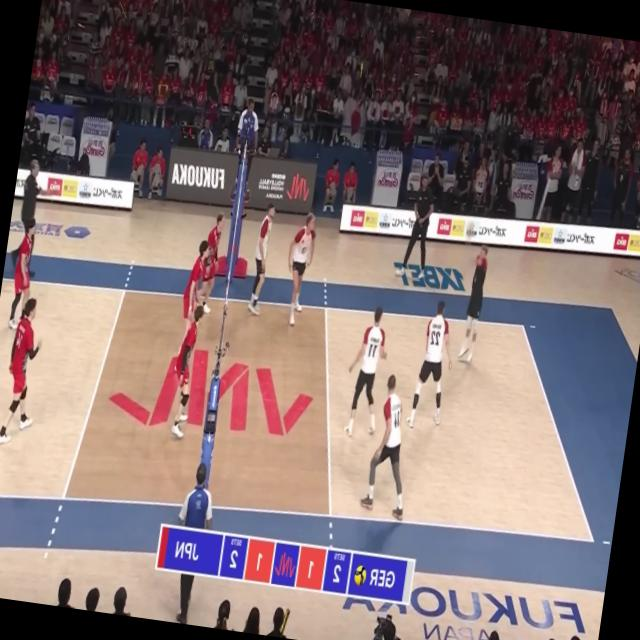referee: (163, 460, 219, 626)
team_one: (359, 372, 422, 520), (338, 304, 396, 442), (406, 300, 459, 430), (279, 210, 320, 329), (457, 246, 491, 368), (245, 202, 278, 318)
team_two: (0, 295, 48, 450), (165, 304, 208, 444), (173, 239, 214, 372), (6, 216, 46, 334), (194, 213, 229, 316)
